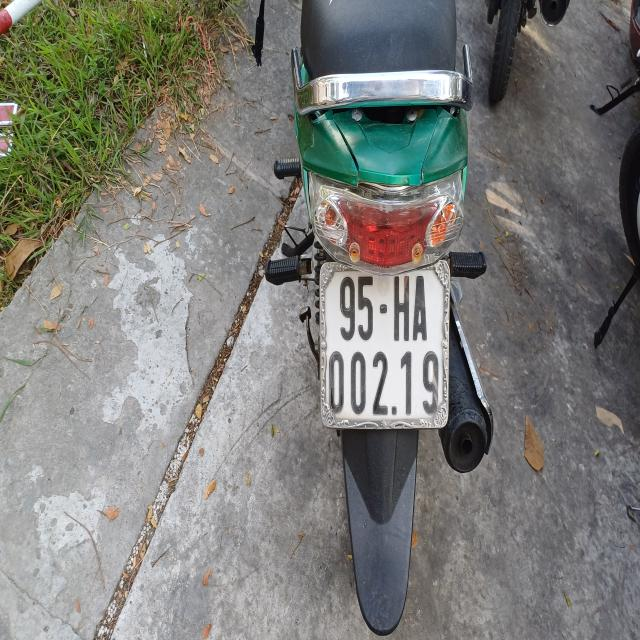0: (349, 352, 368, 418), (328, 348, 345, 417)
1: (397, 352, 414, 416)
2: (372, 352, 389, 420)
5: (357, 272, 375, 340)
9: (318, 260, 453, 434), (337, 274, 356, 343), (423, 346, 441, 416)
A: (412, 273, 429, 343)
H: (393, 274, 410, 343)
